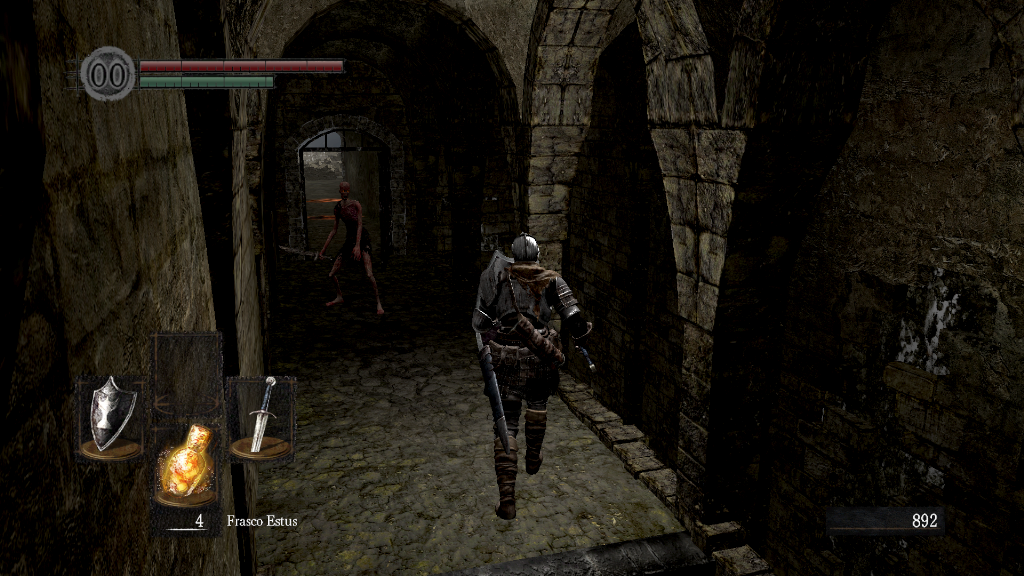health: (138, 58, 343, 71)
hollow: (317, 178, 385, 313)
humanity: (80, 45, 136, 102)
player: (470, 232, 599, 517)
souls: (825, 506, 945, 536)
stamina: (138, 74, 274, 88)
